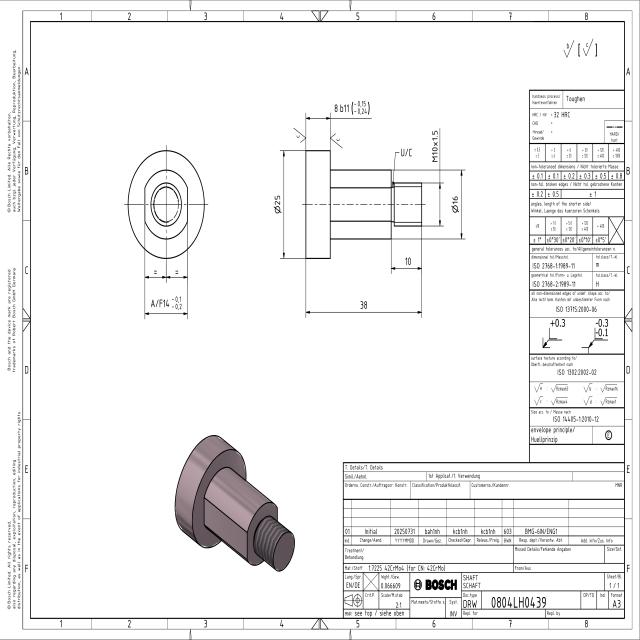dimension: (334, 98, 371, 116), (150, 295, 183, 311), (431, 127, 439, 164), (450, 194, 460, 214), (273, 194, 282, 214), (359, 300, 368, 310), (404, 256, 412, 266)
